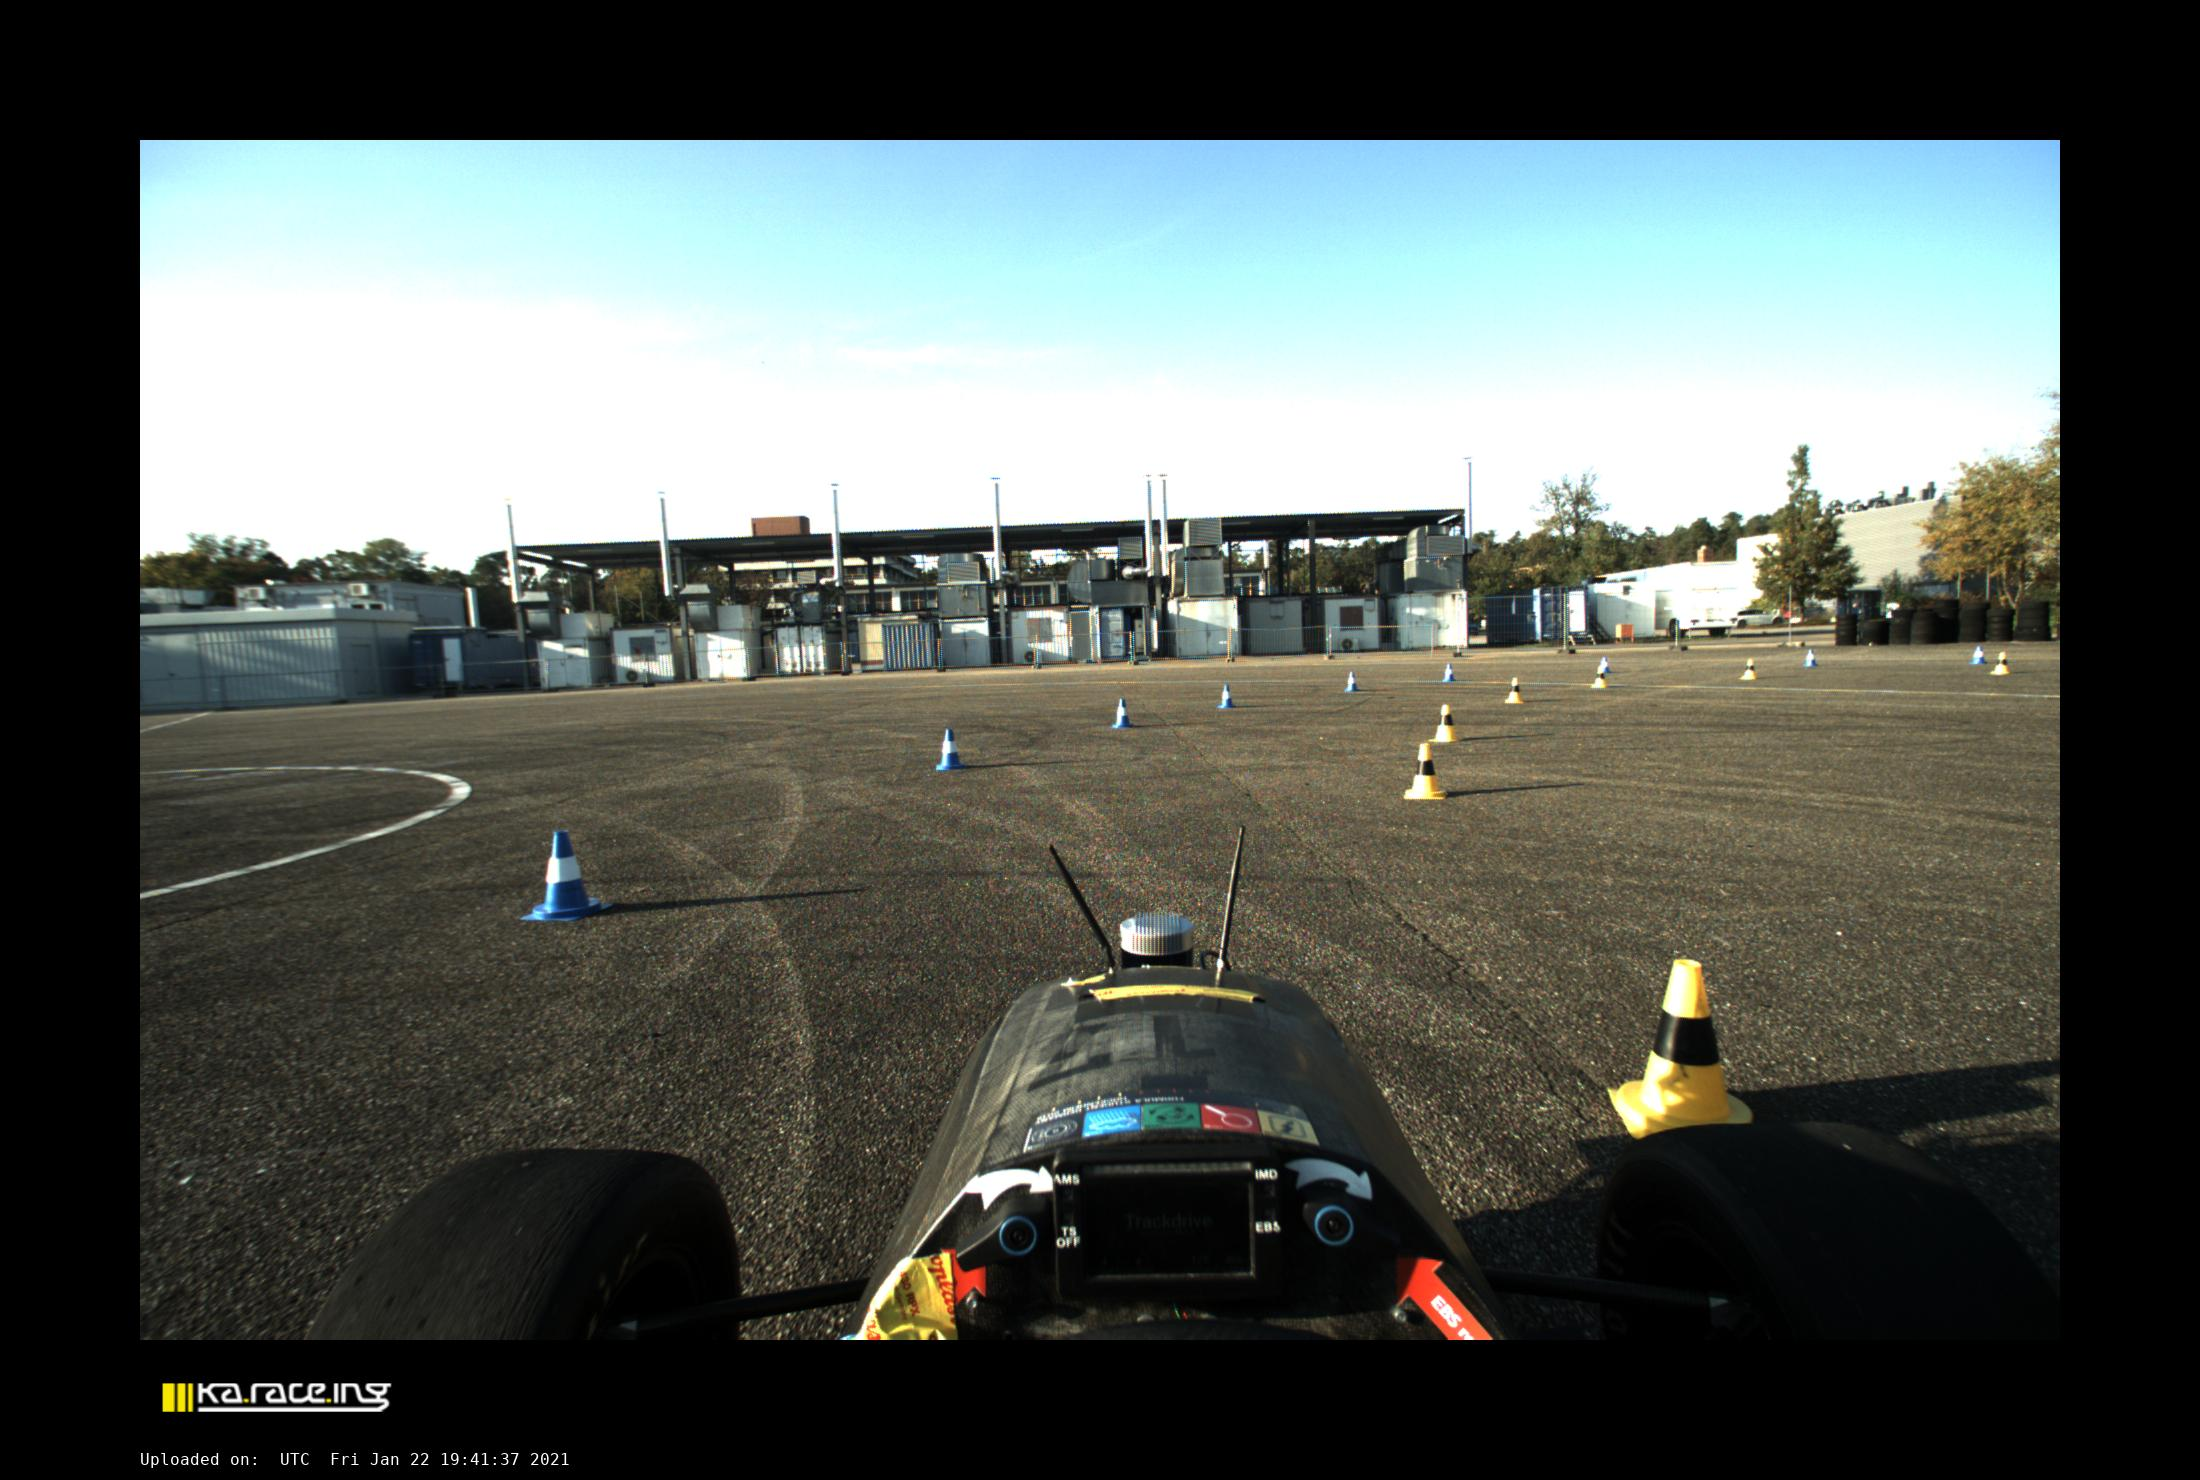blue_cone: (520, 831, 609, 922), (936, 728, 966, 771), (1110, 699, 1135, 728), (1217, 684, 1235, 709), (1440, 662, 1458, 682), (1970, 646, 1987, 664), (1344, 672, 1359, 692), (1802, 647, 1817, 667), (1599, 657, 1610, 674)
yellow_cone: (1609, 960, 1752, 1138), (1404, 743, 1445, 799), (1429, 705, 1462, 742), (1989, 651, 2010, 676), (1505, 677, 1524, 704), (1739, 657, 1757, 681), (1591, 667, 1609, 689)
